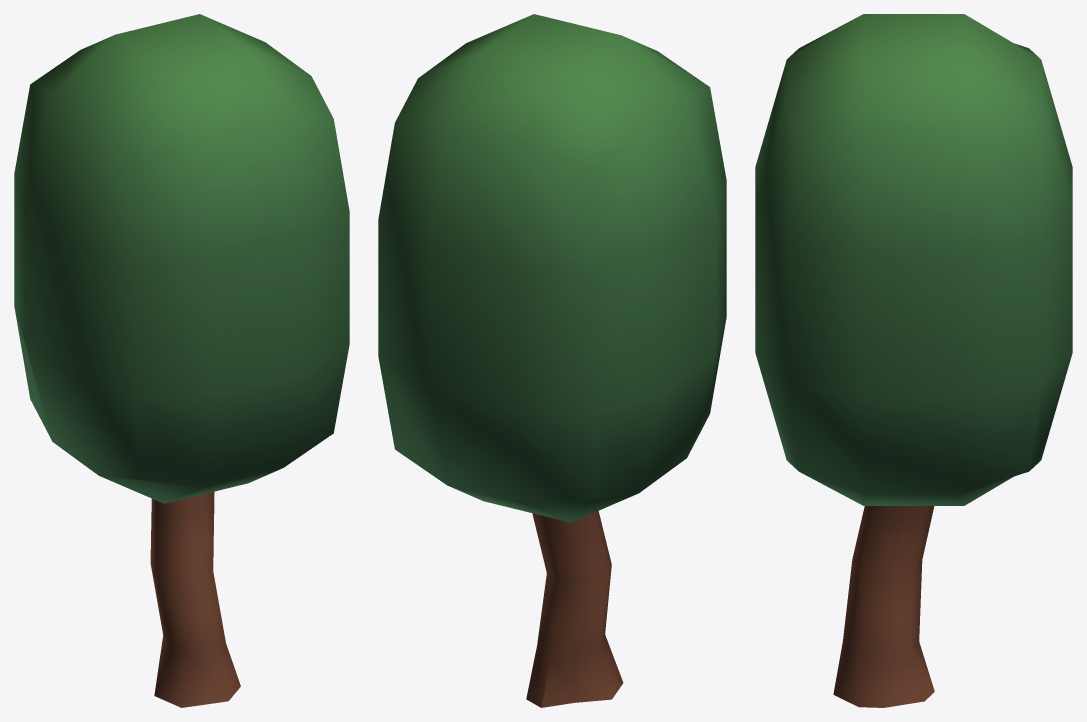
File: pohon edit.fbx
3 views of the same model, side by side, from view 1: azimuth 30°, elevation 25°; view 2: azimuth 150°, elevation 25°; view 3: azimuth 270°, elevation 25° (orthographic). The views are drawn at different scales.
Parts seen in each view (by area): view 1: cube_bevel_01__130_; view 2: cube_bevel_01__130_; view 3: cube_bevel_01__130_.
Part boxes in pixels (box(x1,y1,x2,y2)): cube_bevel_01__130_: box(14, 14, 349, 707); cube_bevel_01__130_: box(378, 14, 726, 707); cube_bevel_01__130_: box(755, 14, 1072, 707).
Size of the model in its own units: 86.24 by 197 by 86.24.
